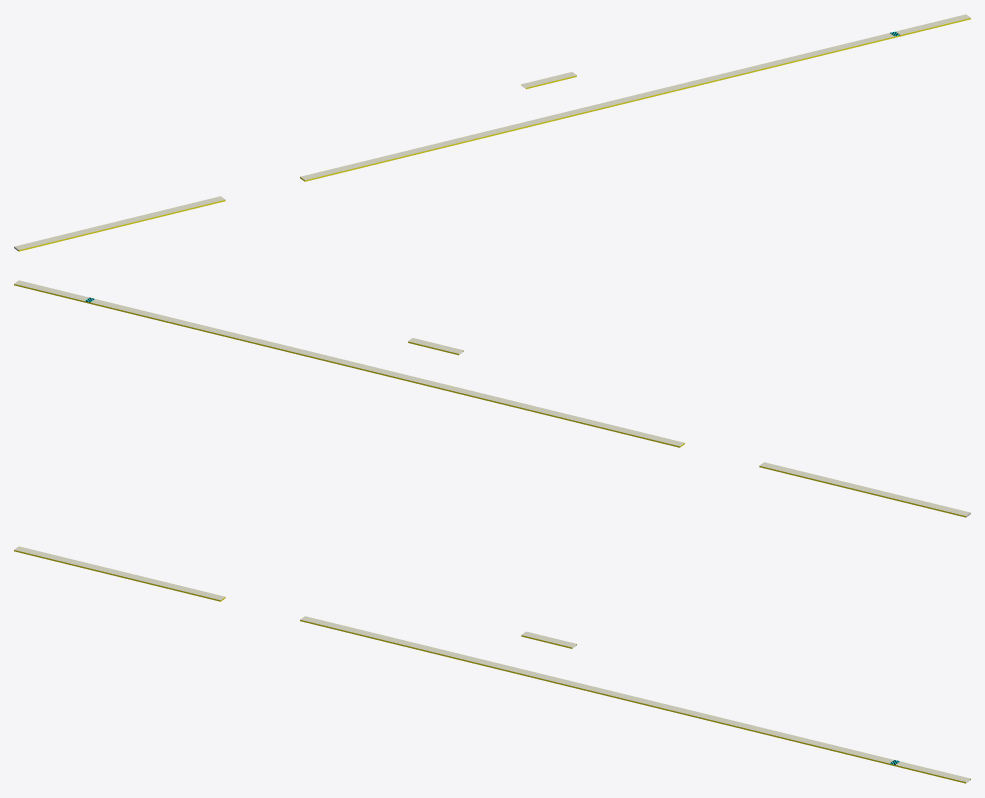
The model's file is Roud lvl14.fbx.
3 renders of one model, top to bottom at view 1: azimuth 30°, elevation 25°; view 2: azimuth 150°, elevation 25°; view 3: azimuth 330°, elevation 25°, orthographic.
Parts seen in each view (by area): view 1: Roud.004; view 2: Roud.004; view 3: Roud.004.
Part boxes in pixels (x1,y1,x2,y2): Roud.004: (14,14,970,251); Roud.004: (14,280,970,517); Roud.004: (14,546,970,783).
Size of the model in its own units: 67180 by 2700 by 600.
